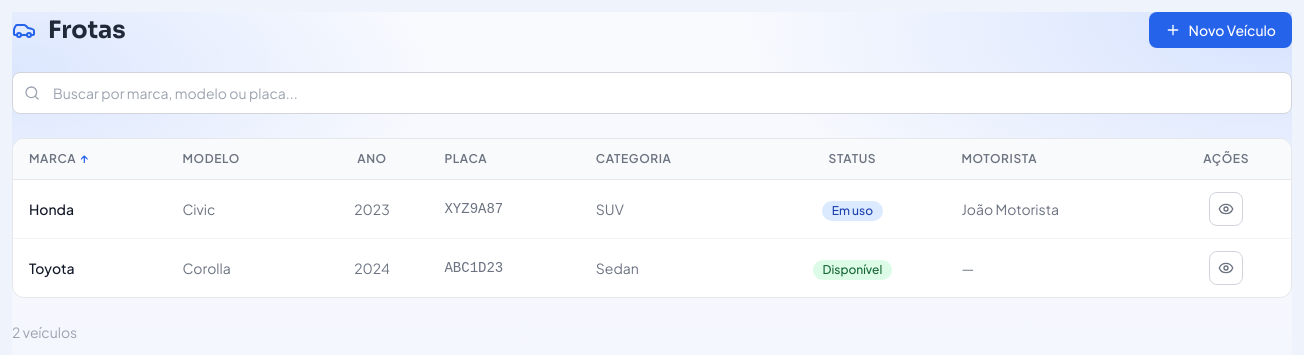
it: FleetListPage › searches by model (server-side, debounced)
Check: the text "Toyota" is shown, box [13,238,166,297]
Type "Civic" into the field with placeholder "Buscar por marca, modelo ou placa...". click: (652, 93)
box: [12,72,1292,114]
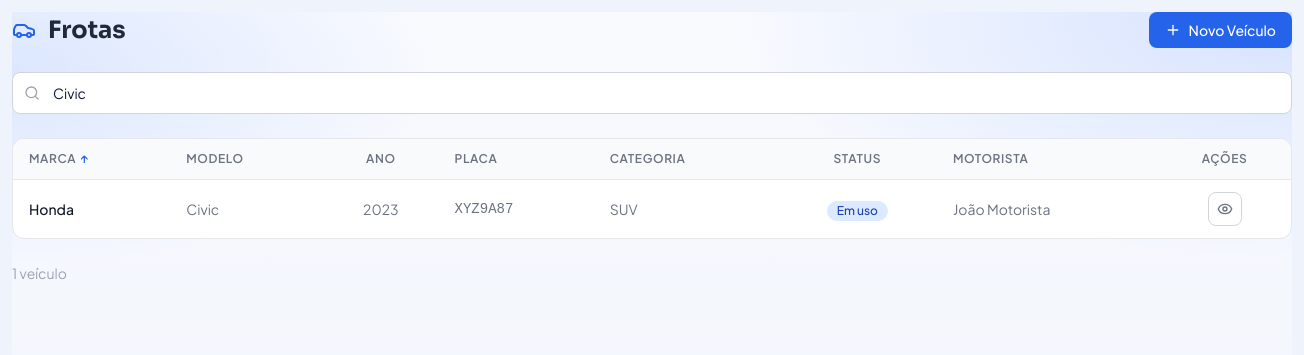
Check: the text "Civic" is shown, box [170,180,323,238]
Check: the text "Corolla" is gone
